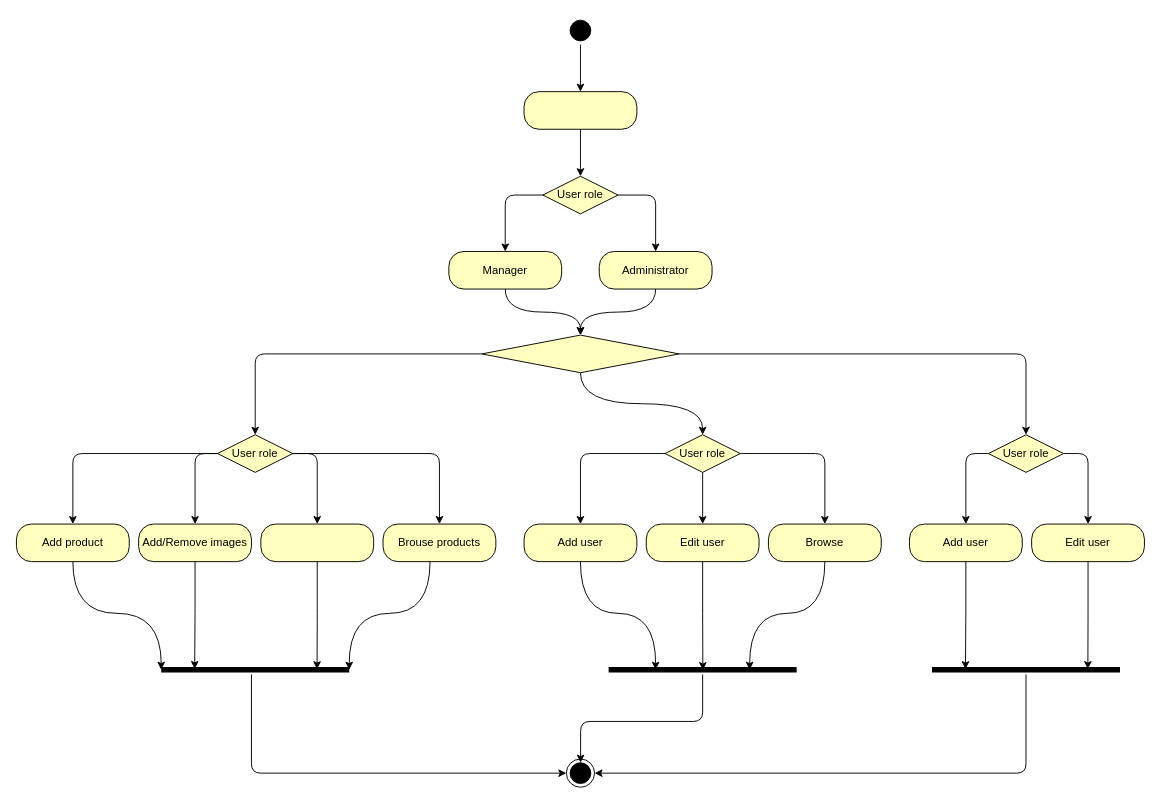
Image size: 1161x804. Some labels were removed from this diagram. Here are the shapes that lost their labels. From the top down, the box of each, then its label:
(523, 91, 637, 129): Login
(481, 334, 679, 373): CMS Functionality
(260, 523, 374, 562): Edit product
